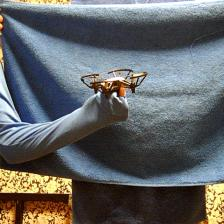drone: (82, 67, 149, 96)
